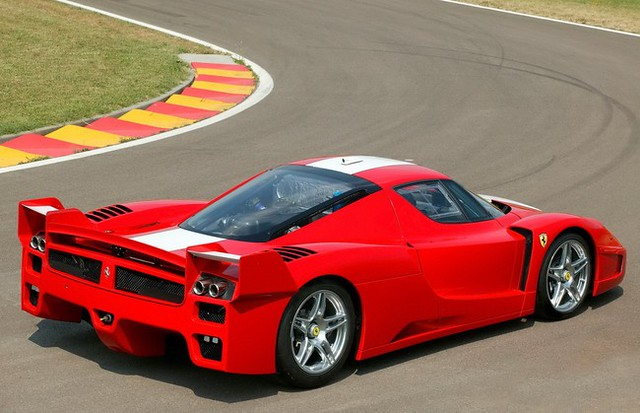car: (14, 153, 634, 397)
